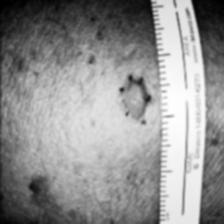Toxin: (100, 68, 148, 136)
